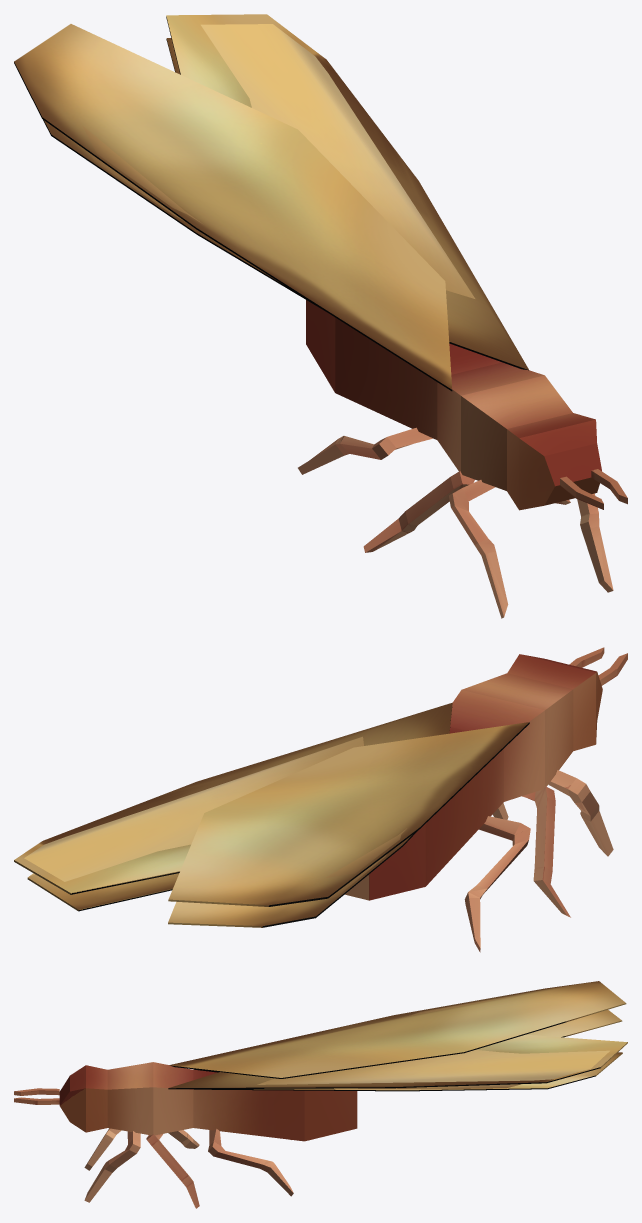
Rendered from 04_Termite.fbx.
3 renders of one model, top to bottom at view 1: azimuth 30°, elevation 25°; view 2: azimuth 150°, elevation 25°; view 3: azimuth 270°, elevation 25°, orthographic. The views are drawn at different scales.
Parts seen in each view (by area): view 1: Termite; view 2: Termite; view 3: Termite.
Part boxes in pixels (<box>): Termite: <box>14,14,627,618</box>; Termite: <box>14,647,627,952</box>; Termite: <box>14,981,627,1208</box>.
Size of the model in its own units: 0.0076 by 0.00699 by 0.023.
1 material, 1 textured.
